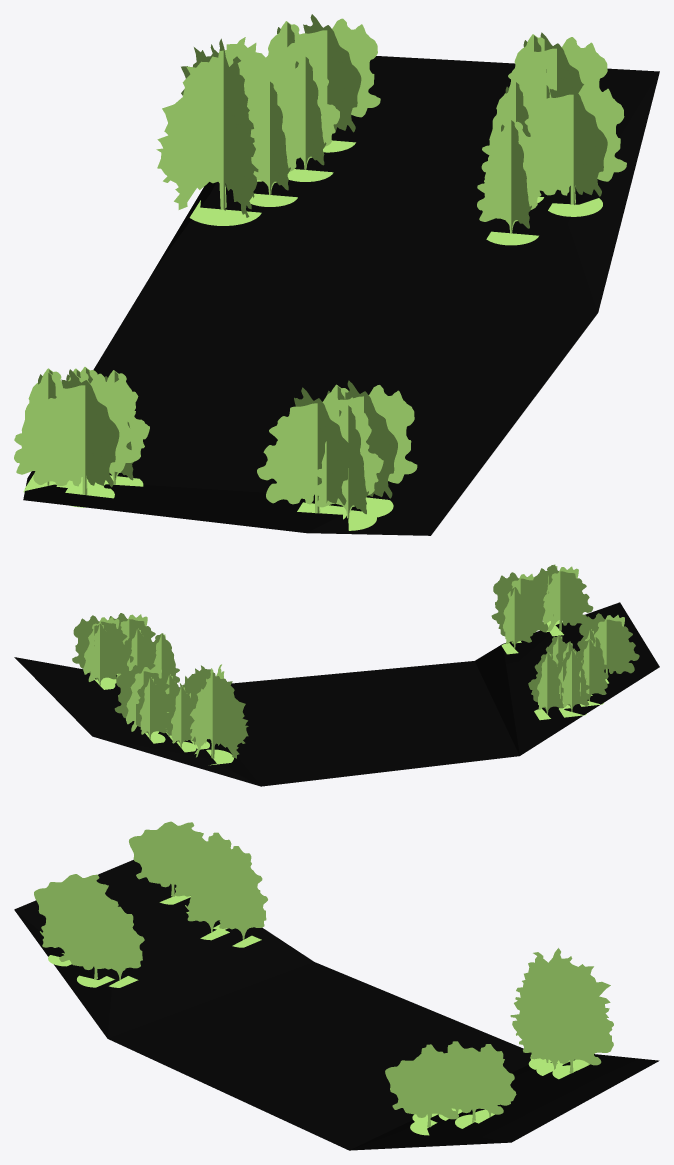
The model's file is bridge2_environment.obj.
3 renders of one model, top to bottom at view 1: azimuth 30°, elevation 25°; view 2: azimuth 150°, elevation 25°; view 3: azimuth 270°, elevation 25°, orthographic. The views are drawn at different scales.
Parts seen in each view (by area): view 1: mesh_0, mesh_22, mesh_20, mesh_12, mesh_14, mesh_11, mesh_17, mesh_13, mesh_8, mesh_7, mesh_21, mesh_15 (+4 smaller); view 2: mesh_0, mesh_22, mesh_14, mesh_12, mesh_21, mesh_13, mesh_11, mesh_10, mesh_6, mesh_16, mesh_9, mesh_19 (+7 smaller); view 3: mesh_0, mesh_13, mesh_11, mesh_21, mesh_22, mesh_20, mesh_12, mesh_5, mesh_6, mesh_14, mesh_1, mesh_15 (+5 smaller).
Part boxes in pixels (x1,y1,x2,y2): mesh_0: [23, 56, 659, 535]; mesh_22: [156, 37, 286, 225]; mesh_20: [519, 78, 626, 216]; mesh_12: [24, 369, 138, 507]; mesh_14: [257, 387, 368, 519]; mesh_11: [278, 14, 380, 152]; mesh_17: [477, 118, 541, 245]; mesh_13: [339, 380, 417, 517]; mesh_8: [248, 80, 305, 206]; mesh_7: [283, 55, 339, 181]; mesh_21: [504, 32, 607, 107]; mesh_15: [314, 404, 383, 530]; mesh_0: [14, 602, 659, 786]; mesh_22: [170, 664, 248, 765]; mesh_14: [533, 565, 593, 636]; mesh_12: [579, 613, 639, 683]; mesh_21: [72, 615, 133, 683]; mesh_13: [491, 572, 553, 643]; mesh_11: [114, 665, 171, 733]; mesh_10: [136, 677, 168, 743]; mesh_6: [528, 652, 563, 720]; mesh_16: [495, 586, 533, 654]; mesh_9: [164, 686, 196, 752]; mesh_19: [81, 623, 118, 689]; mesh_0: [14, 859, 659, 1150]; mesh_13: [52, 904, 138, 987]; mesh_11: [527, 998, 613, 1079]; mesh_21: [430, 1047, 516, 1128]; mesh_22: [510, 948, 610, 1059]; mesh_20: [385, 1052, 458, 1135]; mesh_12: [129, 821, 213, 904]; mesh_5: [185, 859, 236, 940]; mesh_6: [219, 866, 267, 947]; mesh_14: [34, 874, 118, 954]; mesh_1: [172, 834, 214, 913]; mesh_15: [40, 885, 82, 966].
Bounding box in the file's own units: 102 × 22.13 × 95.99.
